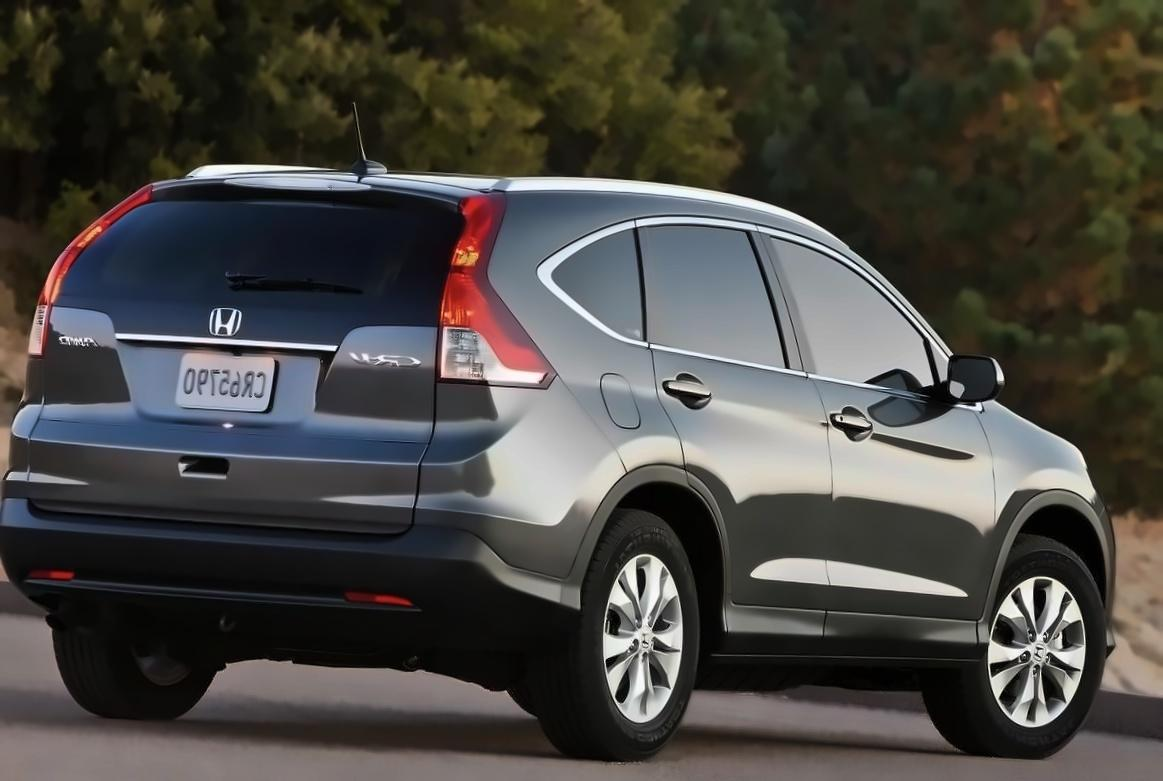Car boot: (18, 171, 453, 549)
Driver-s door - -F-R-: (760, 190, 997, 718)
Fender - -F-R-: (970, 389, 1098, 671)
Fender - -R-R-: (476, 168, 691, 494)
Passenger-s door - -R-R-: (628, 184, 833, 696)
Rear bumper: (0, 498, 578, 683)
Rear light - -L-: (20, 181, 149, 363)
Rear light - -R-: (435, 189, 561, 393)
Side mirror - -R-: (925, 347, 1008, 414)
